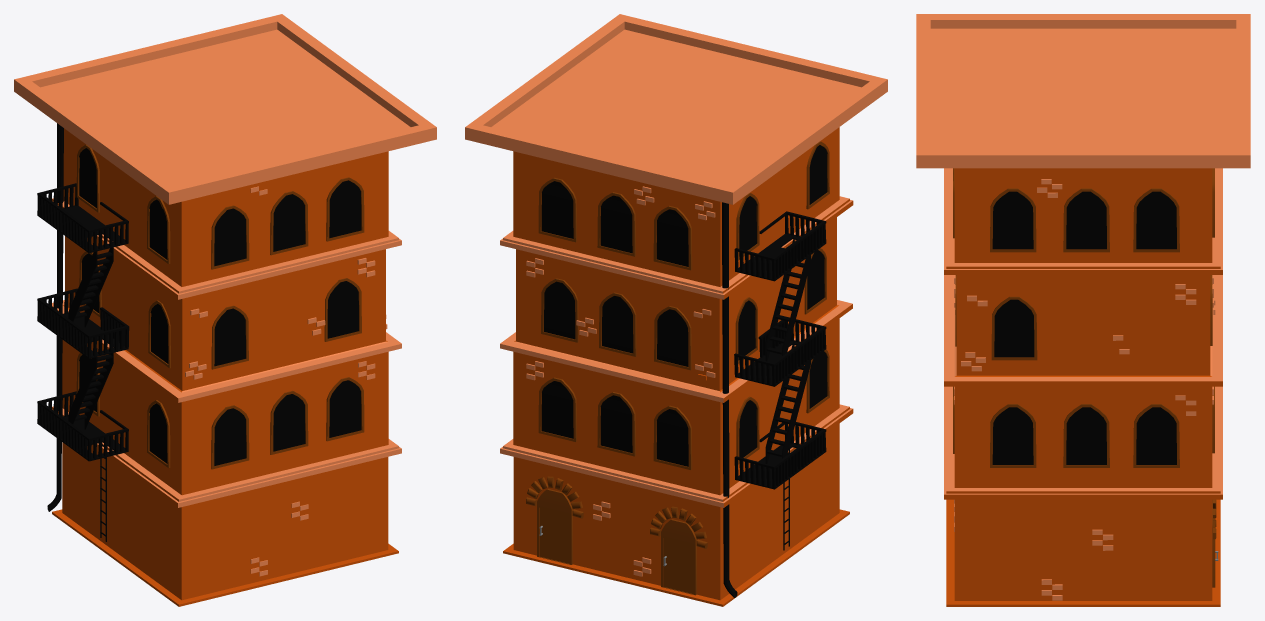
File: house7.fbx
3 renders of one model, left to right at view 1: azimuth 30°, elevation 25°; view 2: azimuth 150°, elevation 25°; view 3: azimuth 270°, elevation 25°, orthographic. The views are drawn at different scales.
Visible parts, largest first — view 1: house7; view 2: house7; view 3: house7.
Part boxes in pixels (box(x1,y1,x2,y2)): house7: box(14, 14, 436, 606); house7: box(465, 14, 887, 606); house7: box(916, 14, 1250, 606).
Size of the model in its own units: 850 by 1260 by 822.
